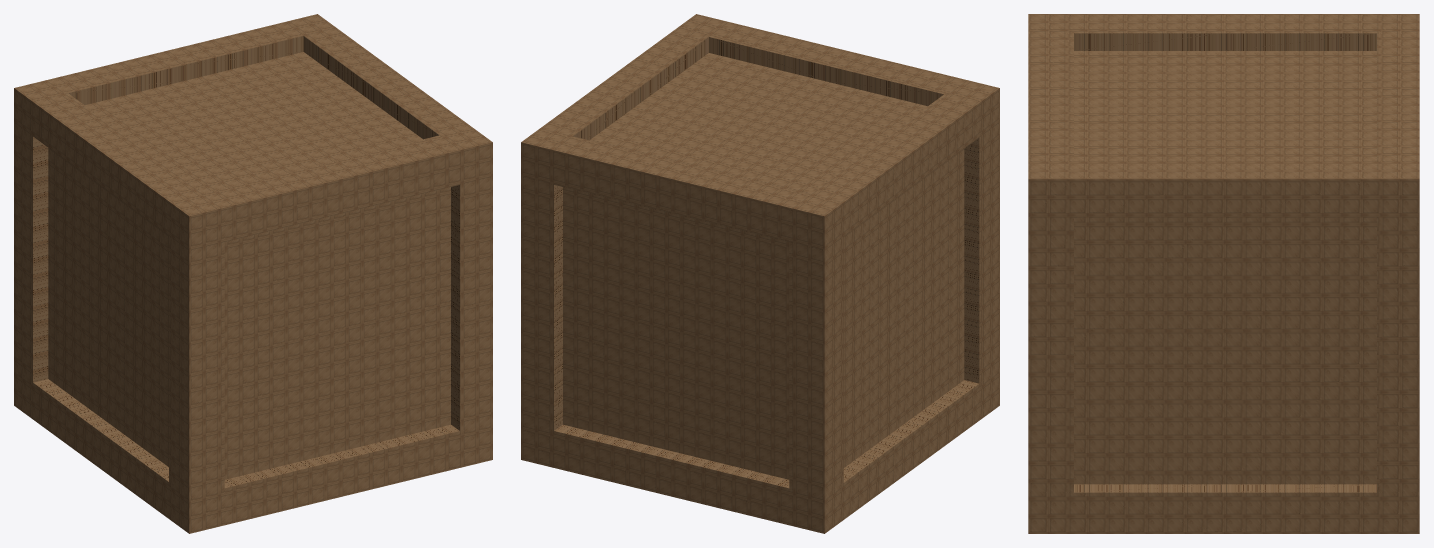
The model's file is cajaGira.glb.
3 renders of one model, left to right at view 1: azimuth 30°, elevation 25°; view 2: azimuth 150°, elevation 25°; view 3: azimuth 270°, elevation 25°, orthographic. The views are drawn at different scales.
Visible parts, largest first — view 1: Box001; view 2: Box001; view 3: Box001.
Part boxes in pixels (x1,y1,x2,y2): Box001: [14, 14, 492, 533]; Box001: [521, 14, 999, 533]; Box001: [1028, 14, 1419, 533].
Bounding box in the file's own units: 0.2 × 0.2 × 0.2.
1 material, 1 textured.
